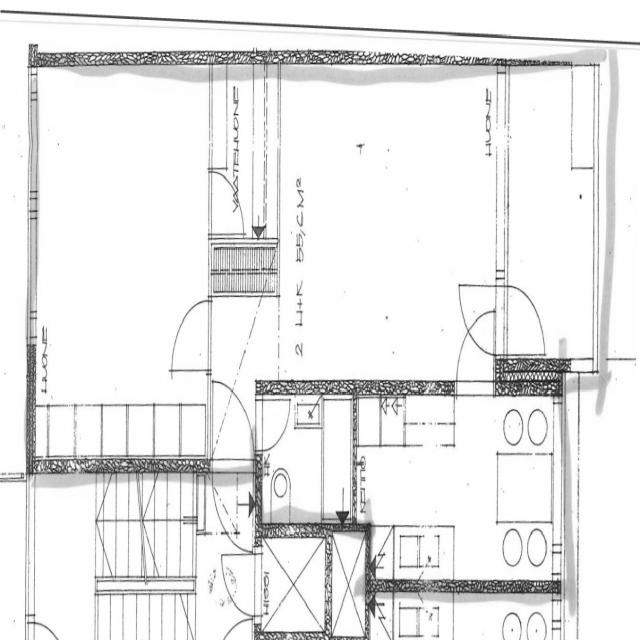door: (166, 290, 213, 380), (211, 376, 257, 460), (456, 307, 496, 390), (505, 280, 547, 358), (457, 278, 498, 355), (206, 163, 246, 238), (256, 390, 293, 454)
zone: (280, 57, 509, 401), (33, 72, 206, 456), (361, 398, 562, 590), (506, 63, 596, 371), (256, 390, 360, 531), (255, 528, 334, 640)
